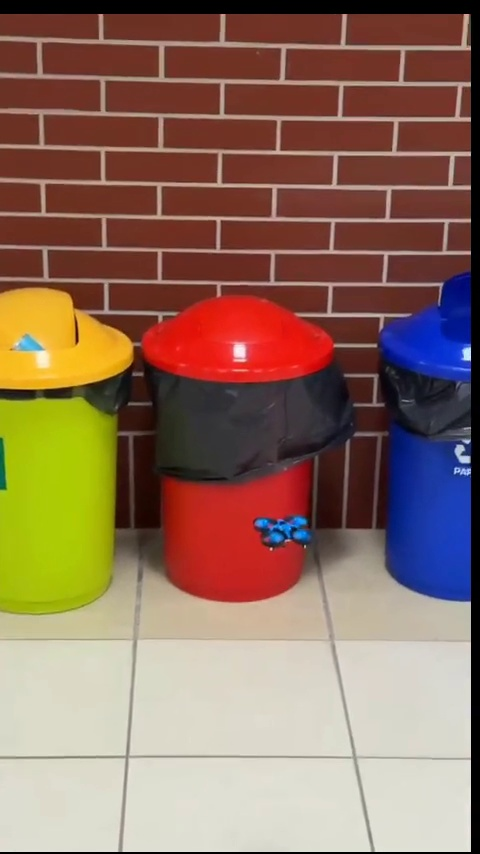drone: (251, 515, 313, 556)
